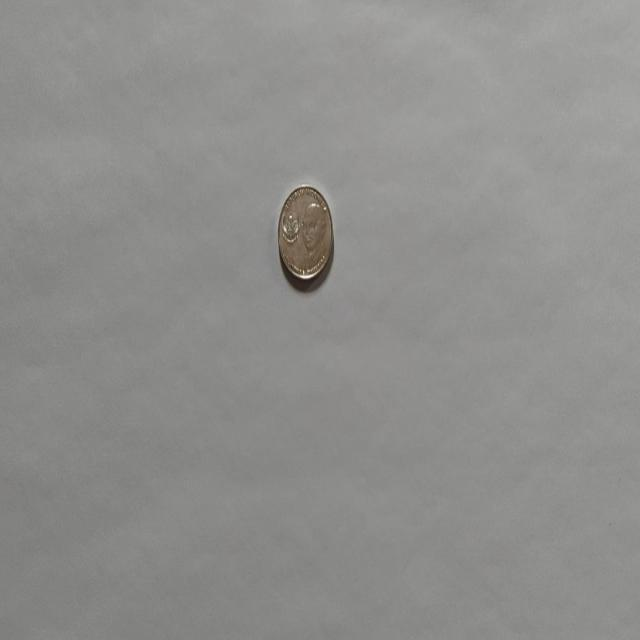lima ratus rupiah: (276, 184, 334, 282)
